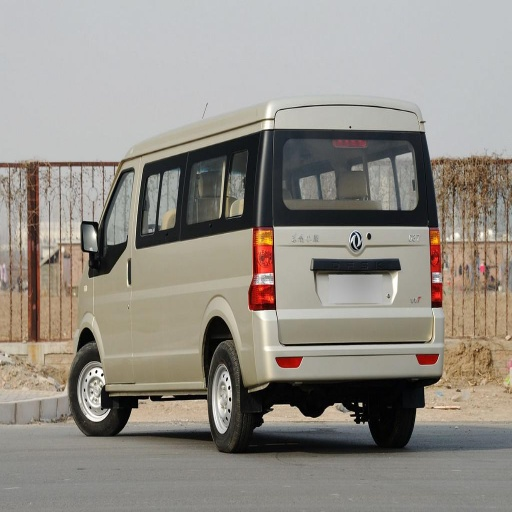back_bumper: (248, 308, 441, 385)
back_left_light: (248, 225, 275, 309)
back_right_door: (185, 167, 220, 224)
tailgate: (283, 198, 400, 224)
trunk: (266, 213, 430, 342), (160, 240, 262, 362)
